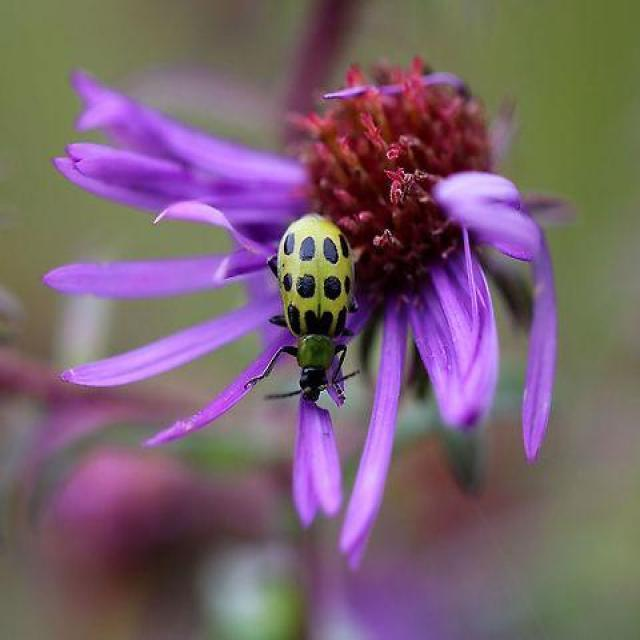gusano_verde: (244, 212, 366, 404)
